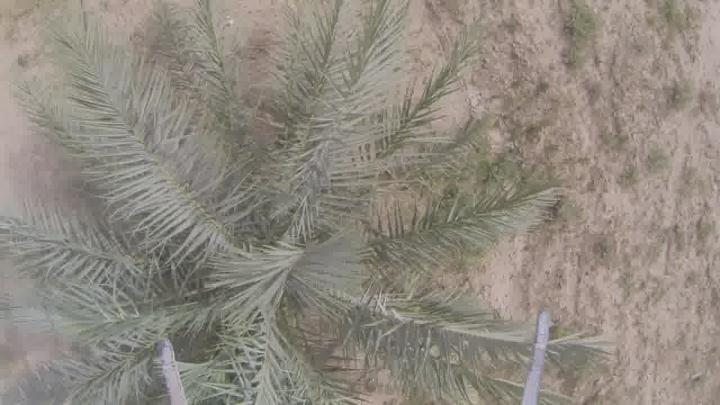Date-Palm-Crown: (100, 112, 408, 404)
